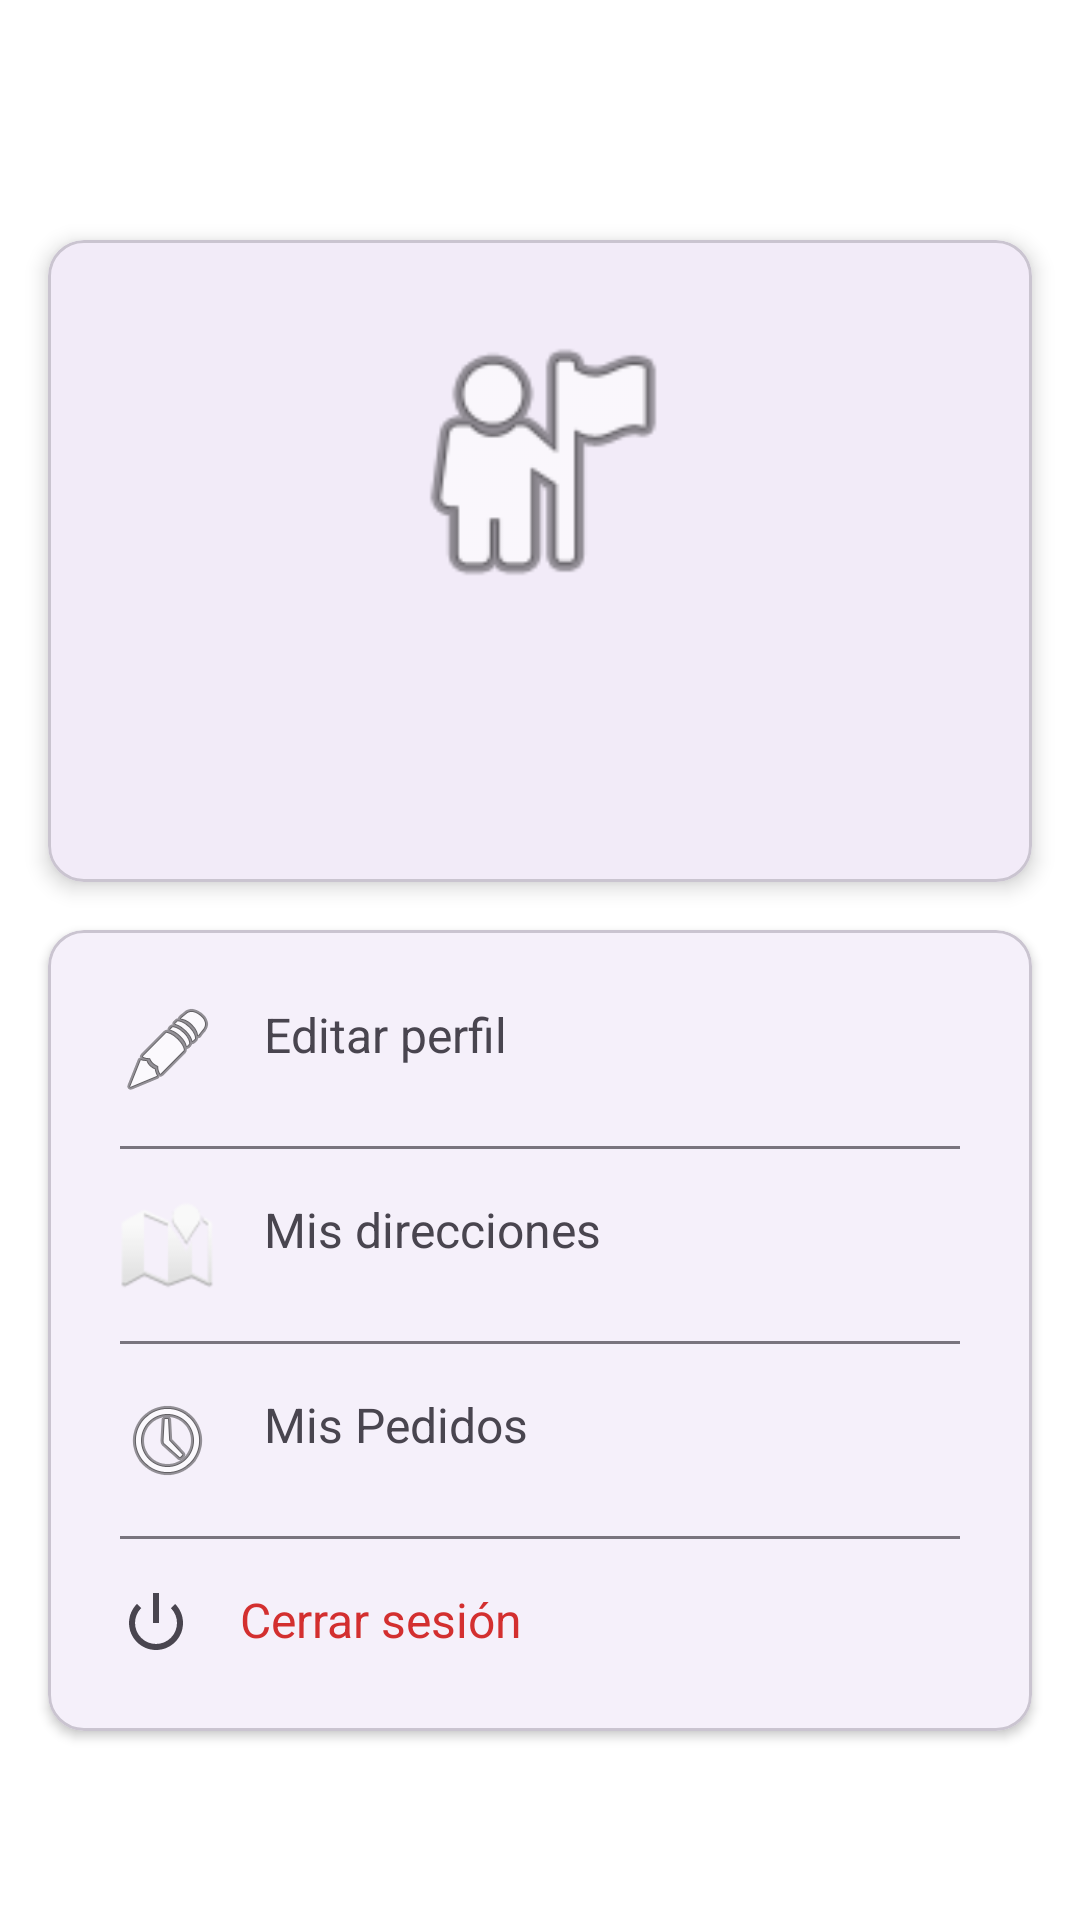

Named icons in this screenshot (1080*1920) and their centers, (x,y):
Foto de perfil: (543,462)
